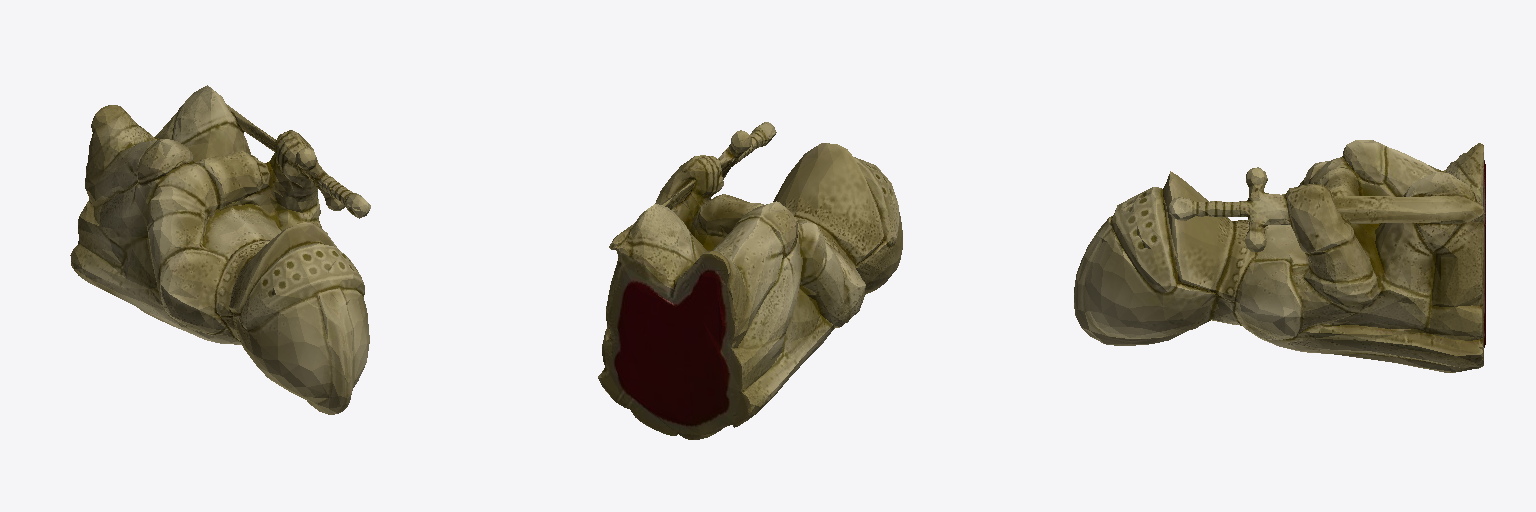
3 views of the same model, side by side, from view 1: azimuth 30°, elevation 25°; view 2: azimuth 150°, elevation 25°; view 3: azimuth 270°, elevation 25° (orthographic).
Visible parts, largest first — view 1: mmGroup0; view 2: mmGroup0; view 3: mmGroup0.
Part boxes in pixels (bbox=[...]): mmGroup0: bbox=[70, 85, 370, 414]; mmGroup0: bbox=[598, 122, 902, 439]; mmGroup0: bbox=[1074, 140, 1485, 372].
Bounding box in the file's own units: 3.73 × 4.06 × 7.12.
1 materials, 1 textured.